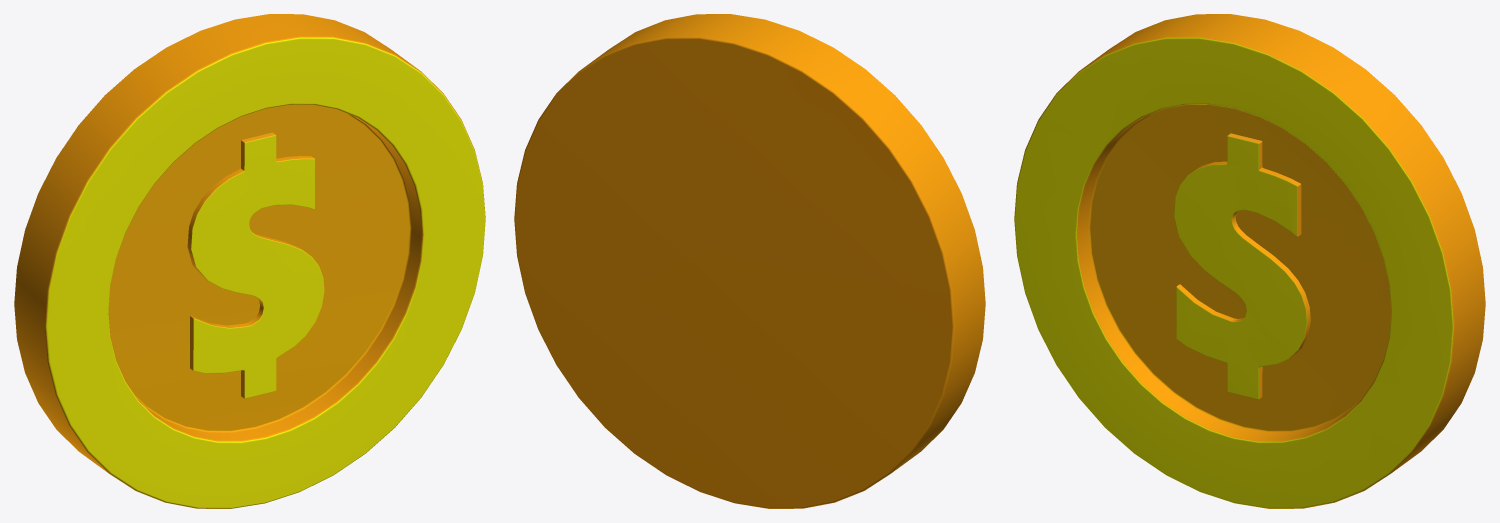
Rendered from coin.fbx.
3 renders of one model, left to right at view 1: azimuth 30°, elevation 25°; view 2: azimuth 150°, elevation 25°; view 3: azimuth 330°, elevation 25°, orthographic.
Parts seen in each view (by area): view 1: coin; view 2: coin; view 3: coin.
Boxes of the visible parts, box(x1,y1,x2,y2) form: coin: box(14, 14, 485, 508); coin: box(514, 14, 985, 508); coin: box(1014, 14, 1485, 508).
Size of the model in its own units: 311 by 311 by 40.35.
